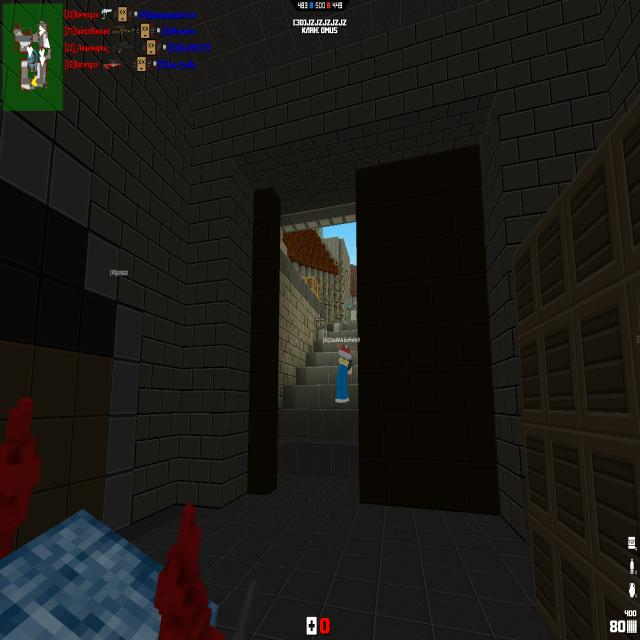player: (0, 400, 232, 638), (335, 344, 353, 404)
